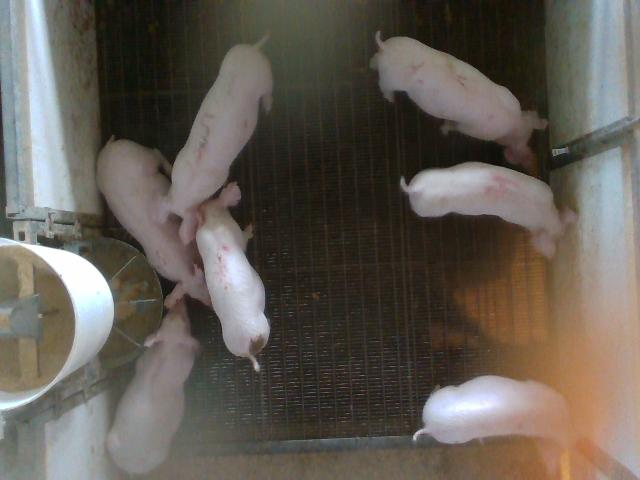pig-3: (156, 35, 271, 244)
pig-4: (400, 162, 575, 258)
pig-5: (196, 182, 270, 371)
